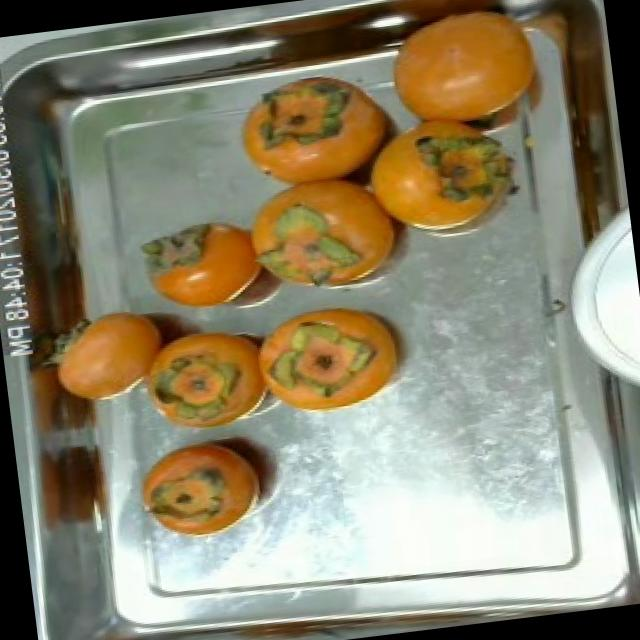Fruit: (360, 0, 581, 154), (347, 110, 547, 260), (219, 64, 421, 210), (244, 288, 425, 426), (122, 424, 288, 550), (127, 200, 290, 318), (15, 427, 134, 549), (38, 306, 162, 416)
